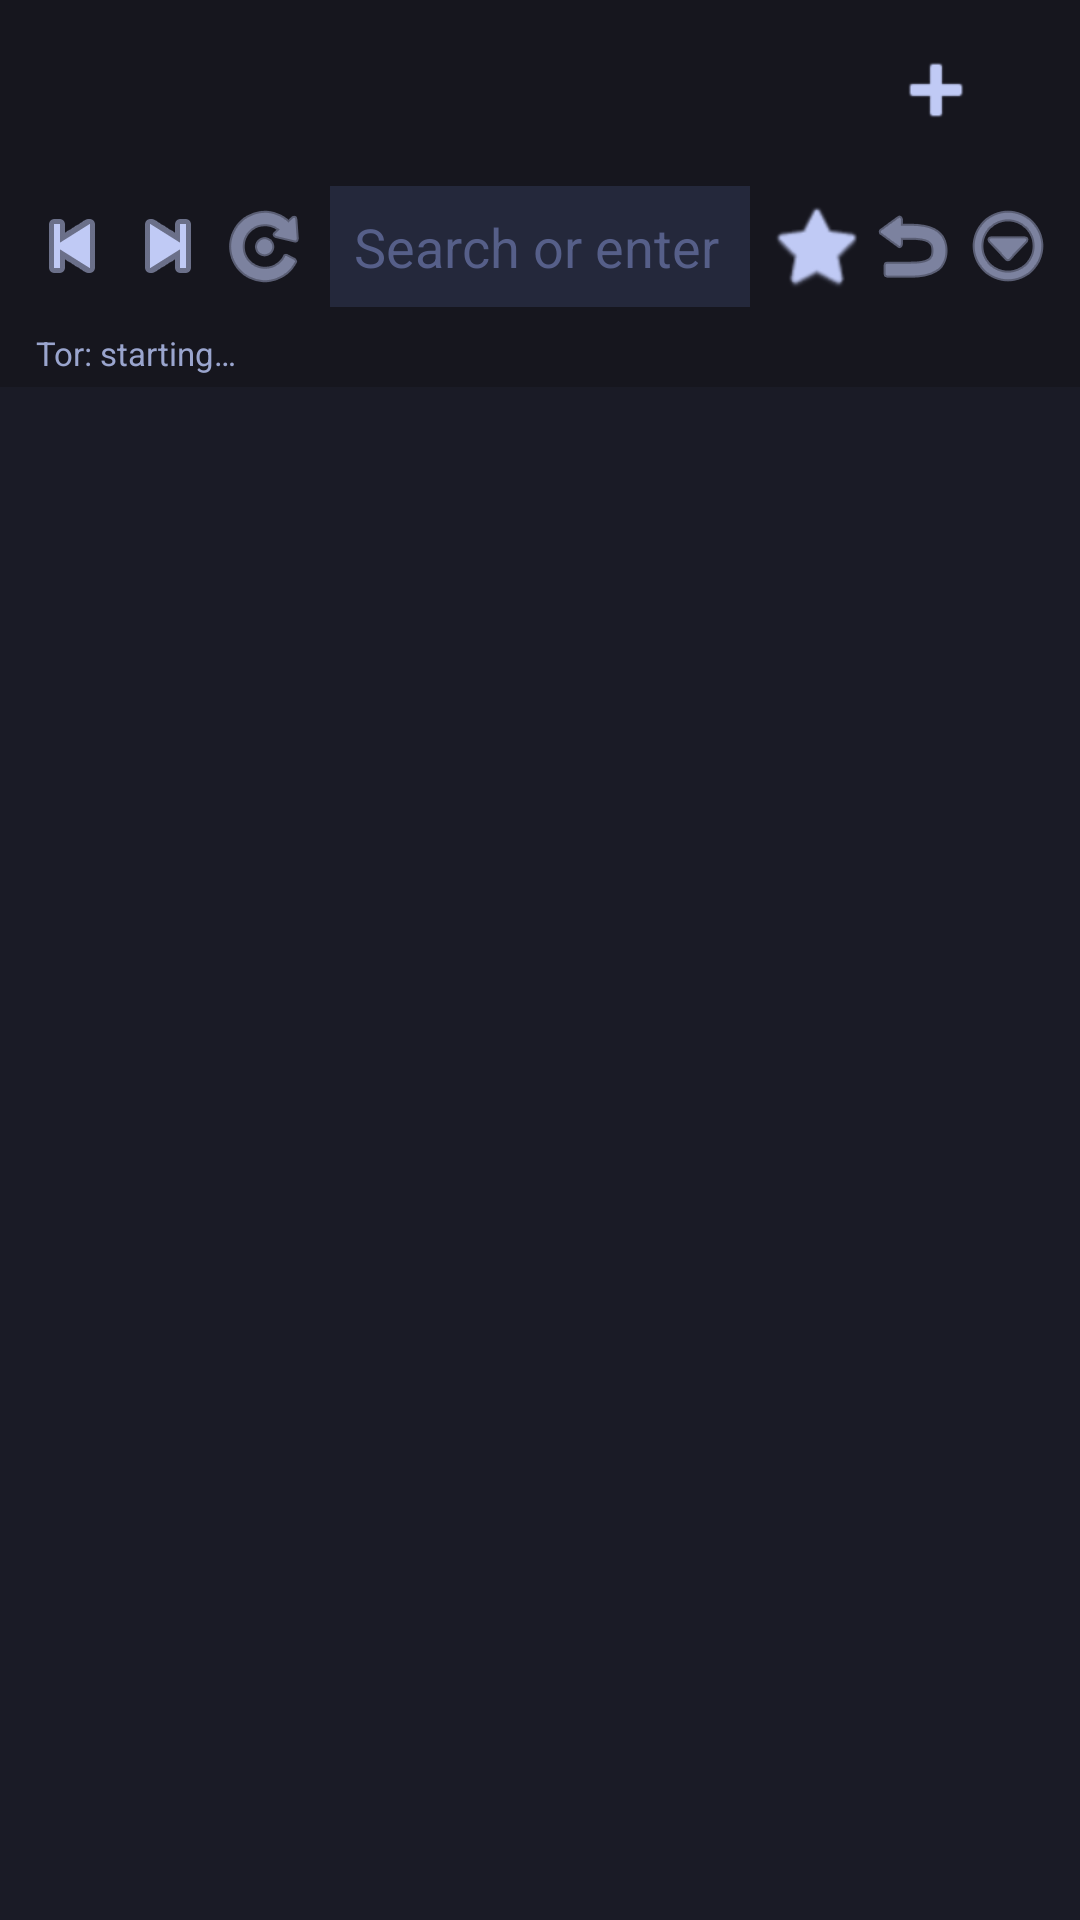

Screen size 1080px x 1920px. Icon name, then its box in pixels as bbox=[x1, y1, x2, y2]:
Back: bbox=[49, 219, 95, 273]
Bookmark this page: bbox=[777, 208, 857, 286]
Forward: bbox=[145, 219, 191, 273]
New tab: bbox=[909, 63, 963, 117]
Reload: bbox=[229, 211, 299, 282]
